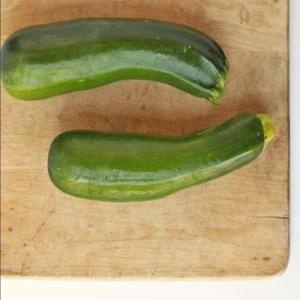bell_pepper: (1, 18, 234, 112)
zucchini: (48, 112, 286, 208)
